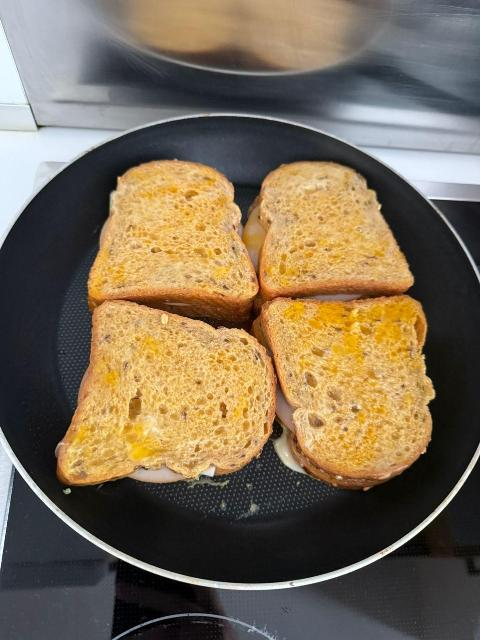Organik: (73, 325, 253, 472), (283, 304, 419, 465), (105, 179, 237, 313), (263, 181, 388, 296)
